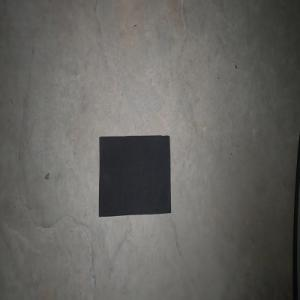PaintChip: (98, 135, 171, 217)
